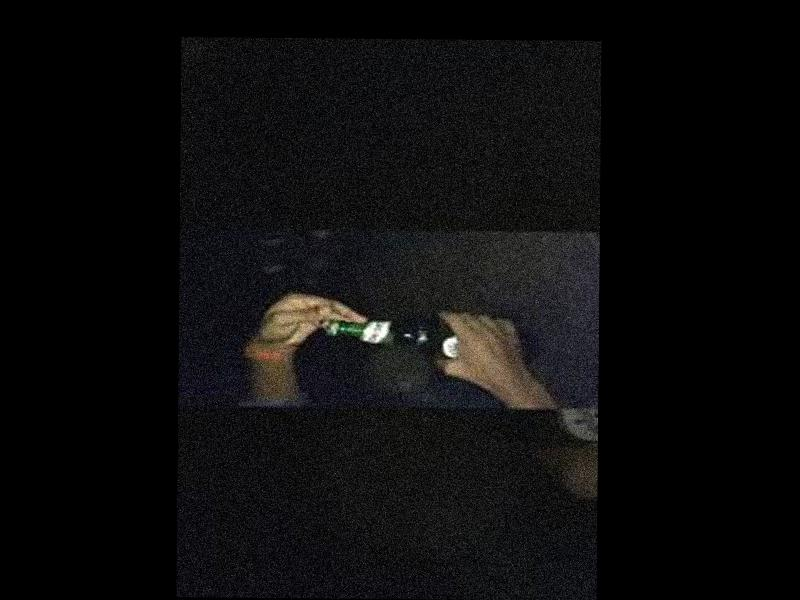Beer: (326, 315, 536, 369)
